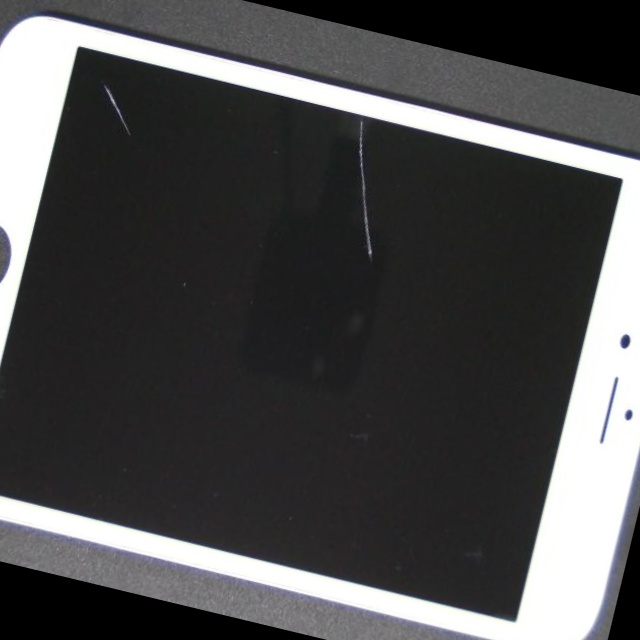scratch: (173, 23, 551, 207), (0, 0, 195, 198)
